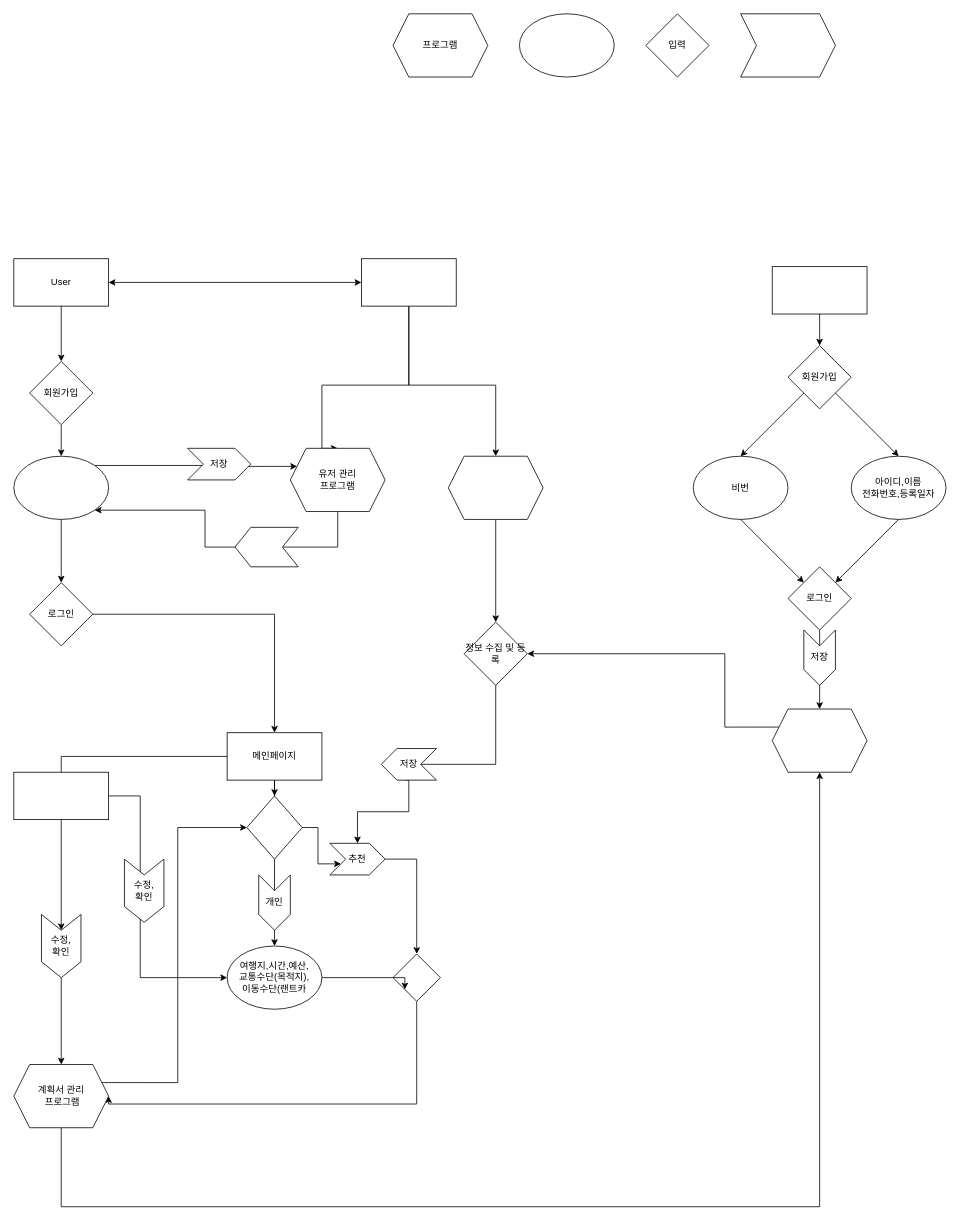
This 960x1227 diagram has some shape labels left out. The shapes that lost their labels are listed below. From the top down, each one's centre as x and y in pixels, then its label:
the point at 566,45: 정보
the point at 787,45: 수행
the point at 408,282: Admin
the point at 819,290: 여행관련 개인이나 회사
the point at 61,487: 비번,아이디,이름 전화번호,등록일자
the point at 495,487: 사이트 관리 프로그램
the point at 266,547: 관리
the point at 819,740: 예약 관리 프로그램
the point at 61,795: 마이페이지
the point at 274,827: 여행계획
the point at 416,977: 예약
